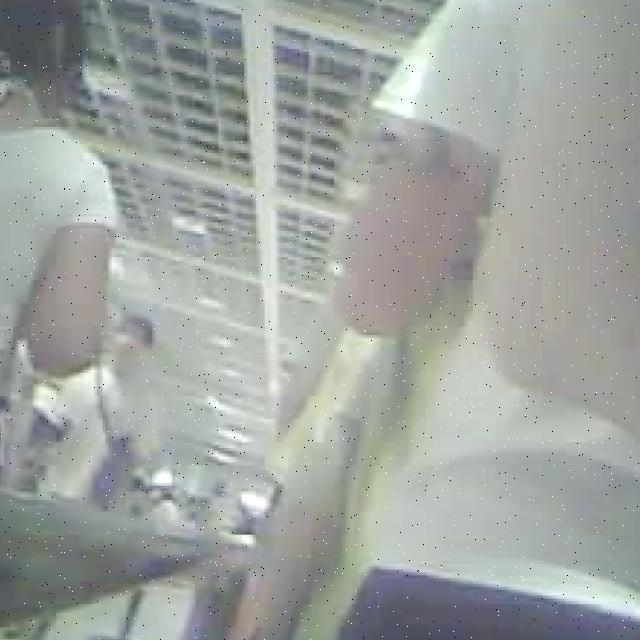person: (344, 0, 640, 640), (0, 0, 112, 514), (28, 310, 167, 508)
